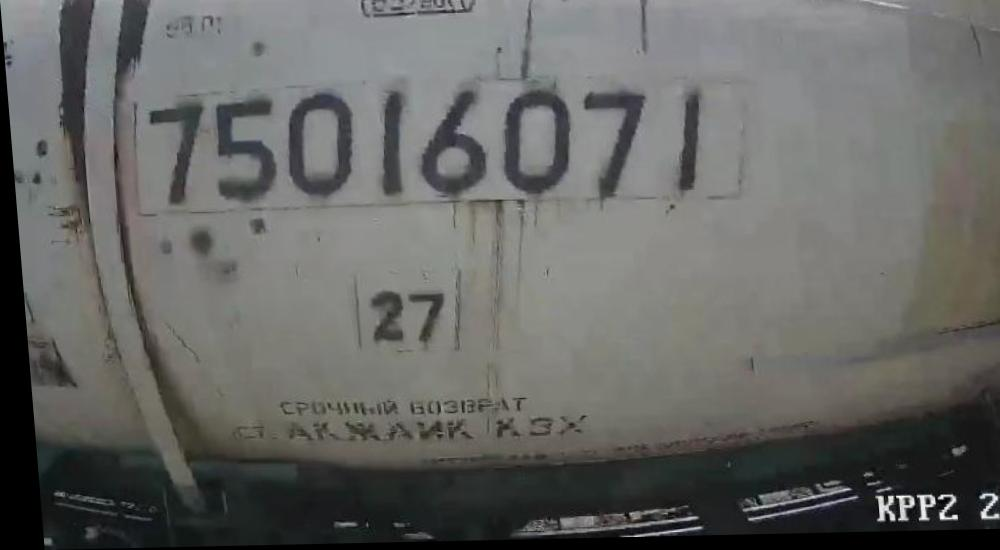Wagon-number: (137, 78, 709, 213)
